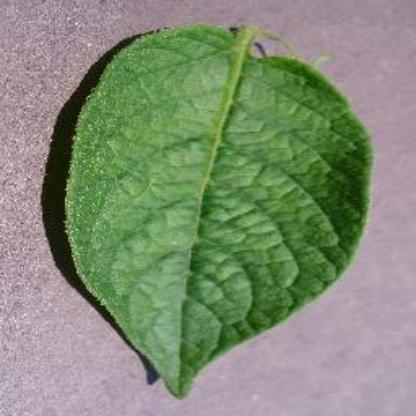Healthy-plant: (69, 21, 379, 398)
